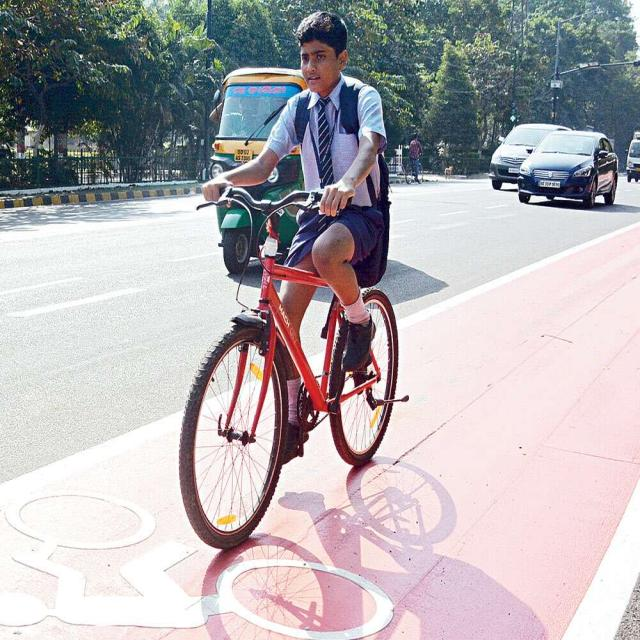autorickshaw: (209, 68, 305, 178), (218, 150, 300, 273)
bicycle: (180, 12, 399, 548)
car: (518, 131, 618, 208), (490, 123, 569, 189)
